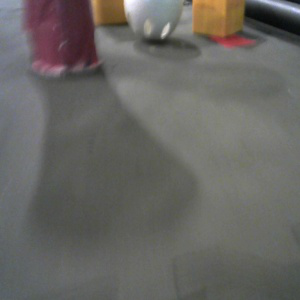middle: (24, 1, 104, 79)
